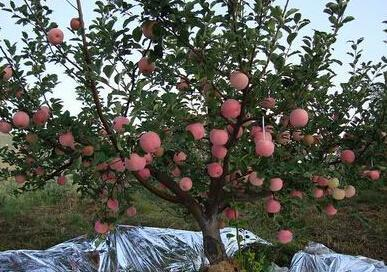apple: (138, 130, 162, 153), (11, 111, 31, 128), (47, 27, 64, 45), (138, 56, 155, 73), (207, 163, 223, 179), (32, 109, 48, 124), (178, 176, 193, 191)
